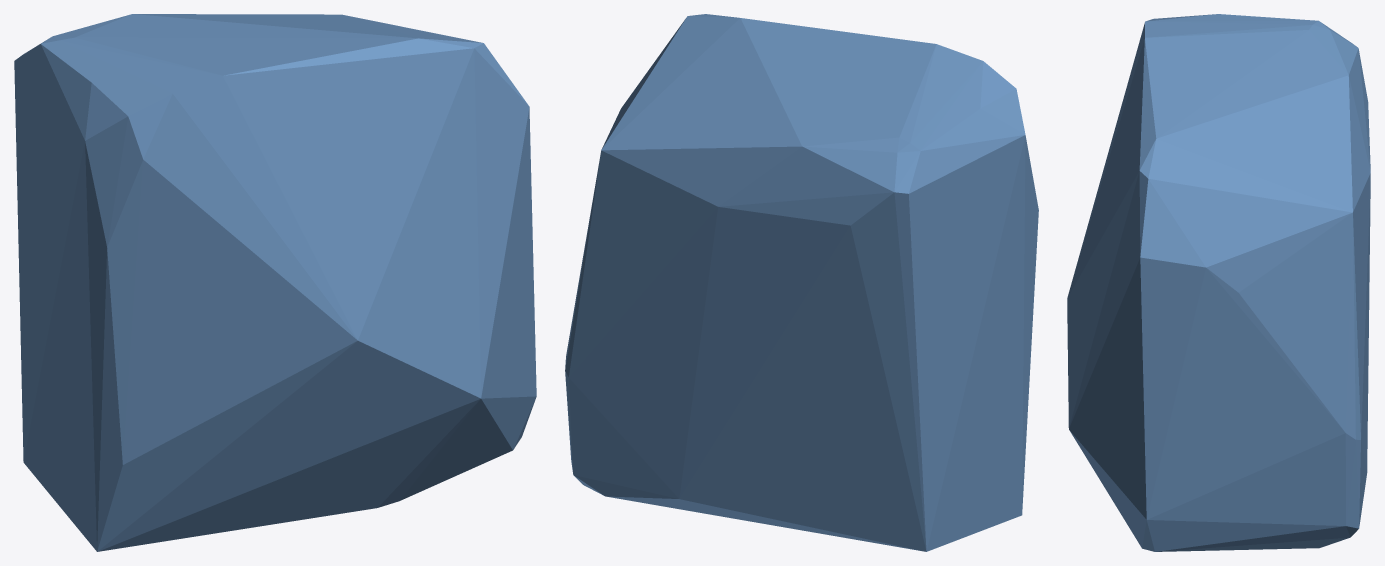
Rendered from food_prepared_cake_g01.glb.
The picture shows the model from 3 angles, left to right: view 1: azimuth 30°, elevation 25°; view 2: azimuth 150°, elevation 25°; view 3: azimuth 270°, elevation 25°; orthographic projection. The views are drawn at different scales.
Parts seen in each view (by area): view 1: geometry_0; view 2: geometry_0; view 3: geometry_0.
Part boxes in pixels (x1,y1,x2,y2): geometry_0: (14,14,536,551); geometry_0: (565,14,1038,551); geometry_0: (1067,14,1370,551).
Bounding box in the file's own units: 0.4576 × 0.4758 × 0.3196.
